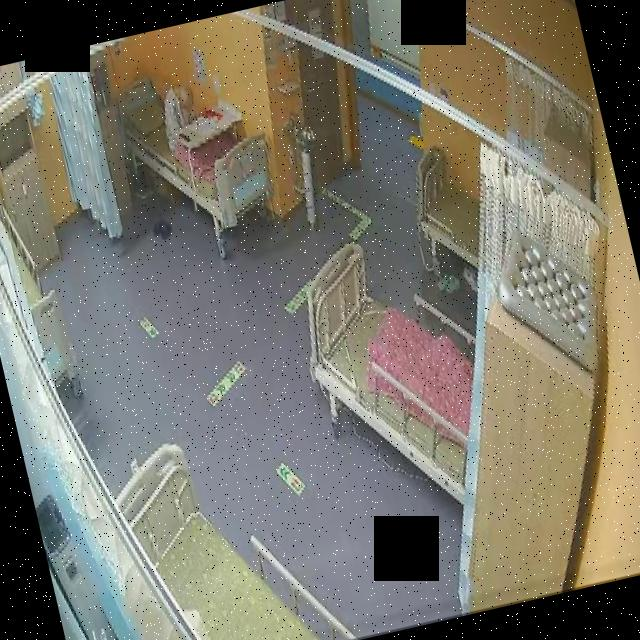bed: (287, 224, 502, 526), (104, 415, 356, 640), (106, 52, 284, 248), (403, 138, 494, 280)
patient: (154, 77, 208, 153)
sit: (153, 74, 203, 146)
